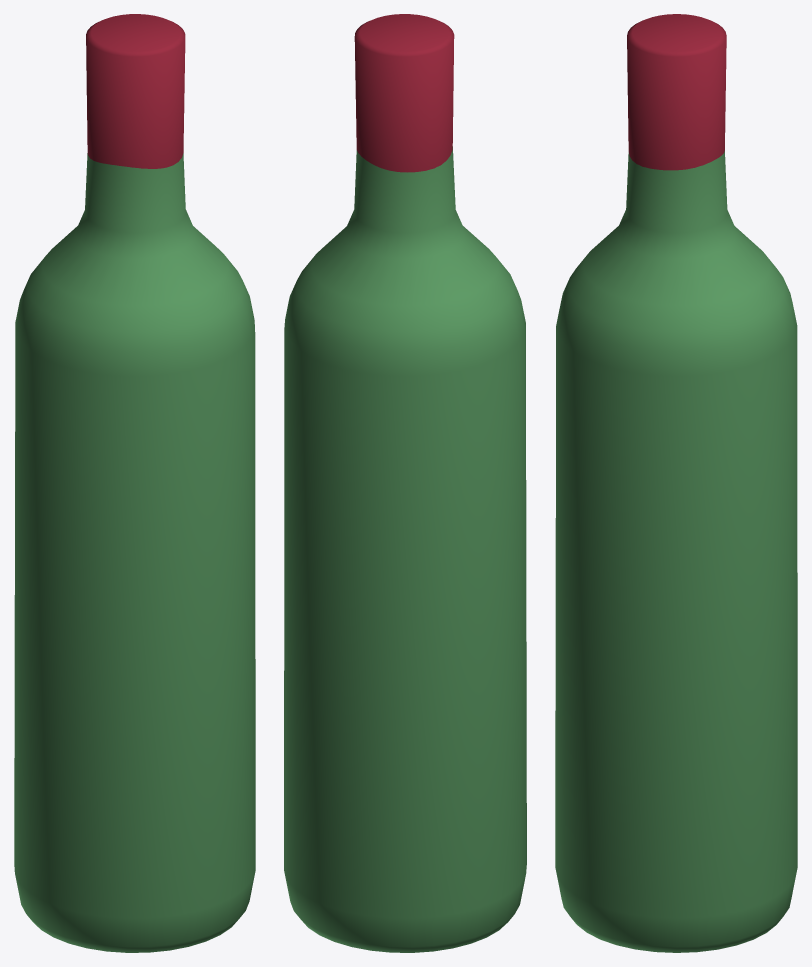
Rendered from bottle_bordeaux_lod1.glb.
The picture shows the model from 3 angles, left to right: view 1: azimuth 30°, elevation 25°; view 2: azimuth 150°, elevation 25°; view 3: azimuth 270°, elevation 25°; orthographic projection.
Parts seen in each view (by area): view 1: Glass, Cap; view 2: Glass, Cap; view 3: Glass, Cap.
Boxes of the visible parts, x1,y1,x2,y2 form: Glass: (14,153,255,952); Cap: (86,14,185,168); Glass: (284,146,526,952); Cap: (354,14,454,172); Glass: (555,151,797,952); Cap: (627,14,726,170).
Size of the model in its own units: 0.0753 by 0.3008 by 0.0753.
